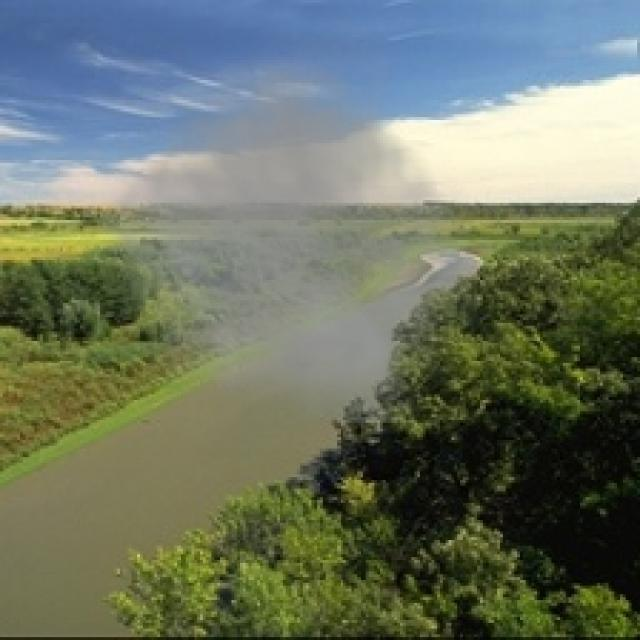Smoke: (82, 17, 494, 423)
